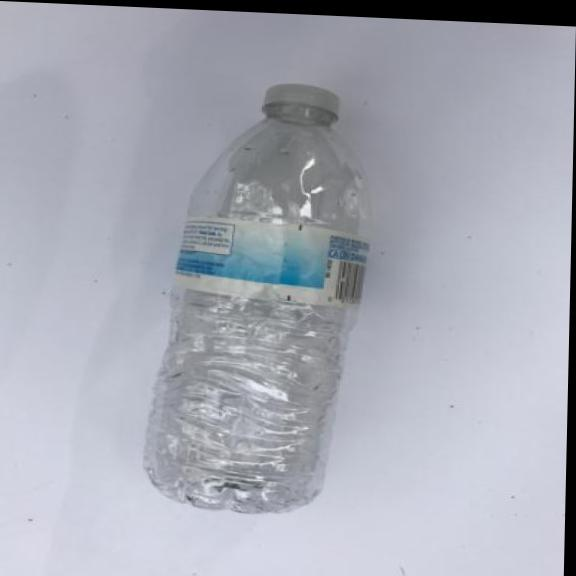Plastik: (136, 73, 386, 521)
